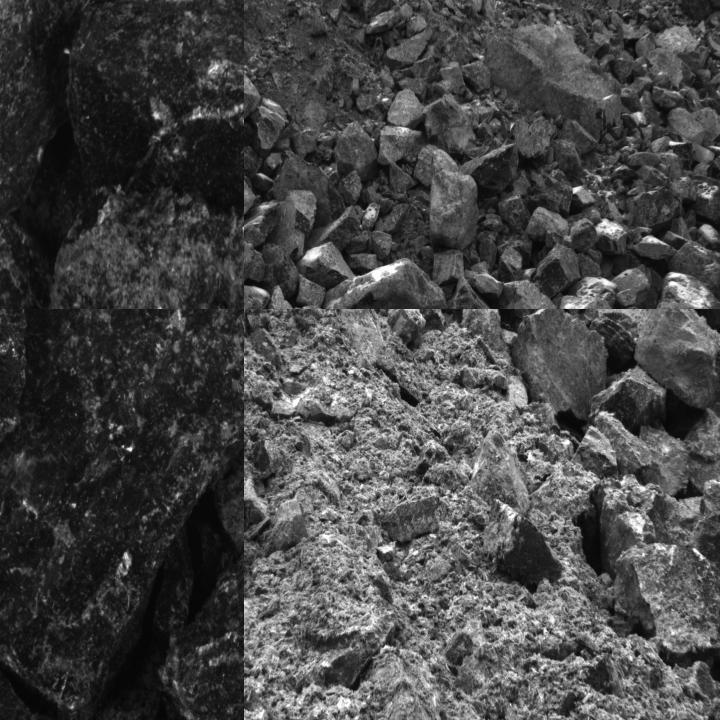stone: (0, 309, 243, 719), (69, 0, 243, 269), (0, 0, 136, 220), (40, 190, 243, 308), (484, 18, 621, 139), (162, 519, 243, 719), (0, 651, 218, 719), (619, 536, 719, 664), (511, 309, 609, 423), (633, 309, 719, 410), (459, 422, 530, 527), (481, 498, 562, 585), (690, 480, 719, 719), (482, 498, 562, 584), (362, 640, 448, 719), (326, 259, 445, 308), (589, 364, 667, 432), (428, 169, 479, 251), (154, 524, 190, 638), (586, 309, 652, 368), (592, 411, 652, 475), (422, 93, 480, 157), (454, 309, 512, 373), (687, 397, 719, 506), (461, 143, 519, 202), (668, 241, 719, 308), (268, 190, 318, 258), (630, 168, 682, 232), (640, 427, 688, 495), (382, 492, 442, 544), (334, 121, 380, 184), (531, 243, 581, 300), (570, 425, 618, 480), (213, 471, 243, 558), (300, 243, 355, 288), (652, 273, 719, 308), (92, 687, 162, 719), (514, 113, 558, 163), (244, 200, 284, 250), (443, 276, 504, 308), (379, 125, 424, 166), (262, 247, 297, 298), (244, 59, 263, 149), (246, 436, 284, 481), (497, 281, 559, 308), (670, 105, 705, 149), (388, 88, 426, 128), (387, 309, 431, 343), (244, 242, 265, 308), (529, 212, 570, 244), (561, 291, 634, 308), (388, 309, 444, 327)
